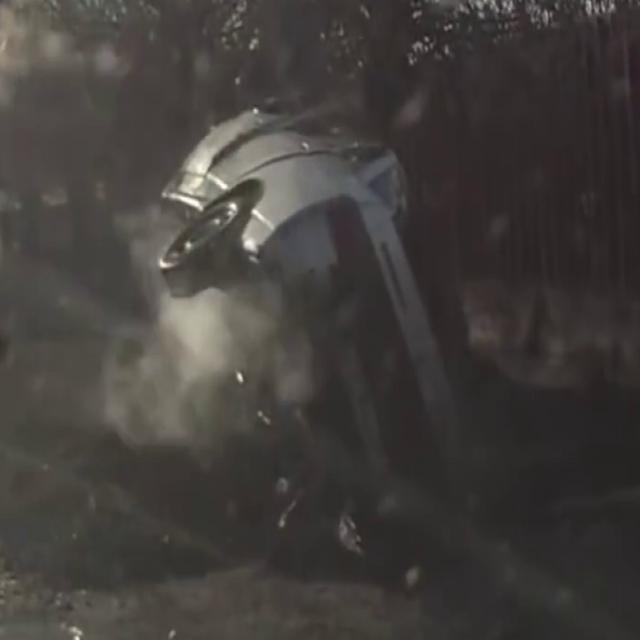accident: (114, 69, 489, 545)
